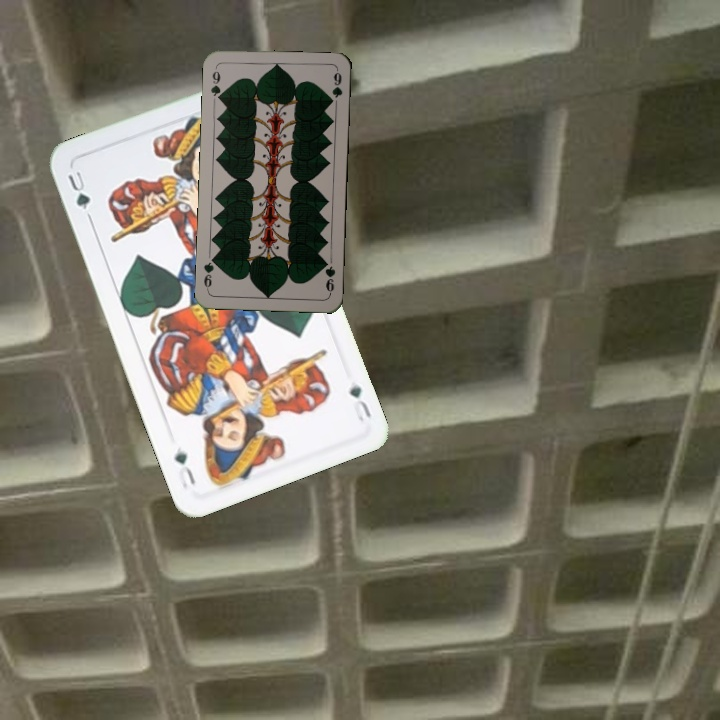G9: (320, 256, 338, 297), (207, 63, 224, 104)
GU: (63, 166, 93, 213), (345, 380, 374, 425)
